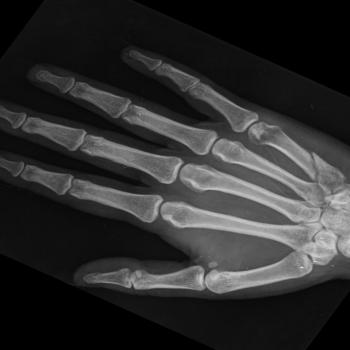Fracture: (306, 147, 324, 177)
